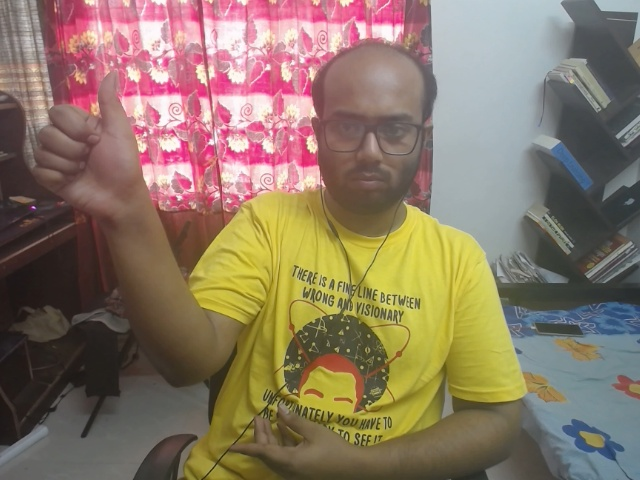six: (25, 69, 172, 217)
